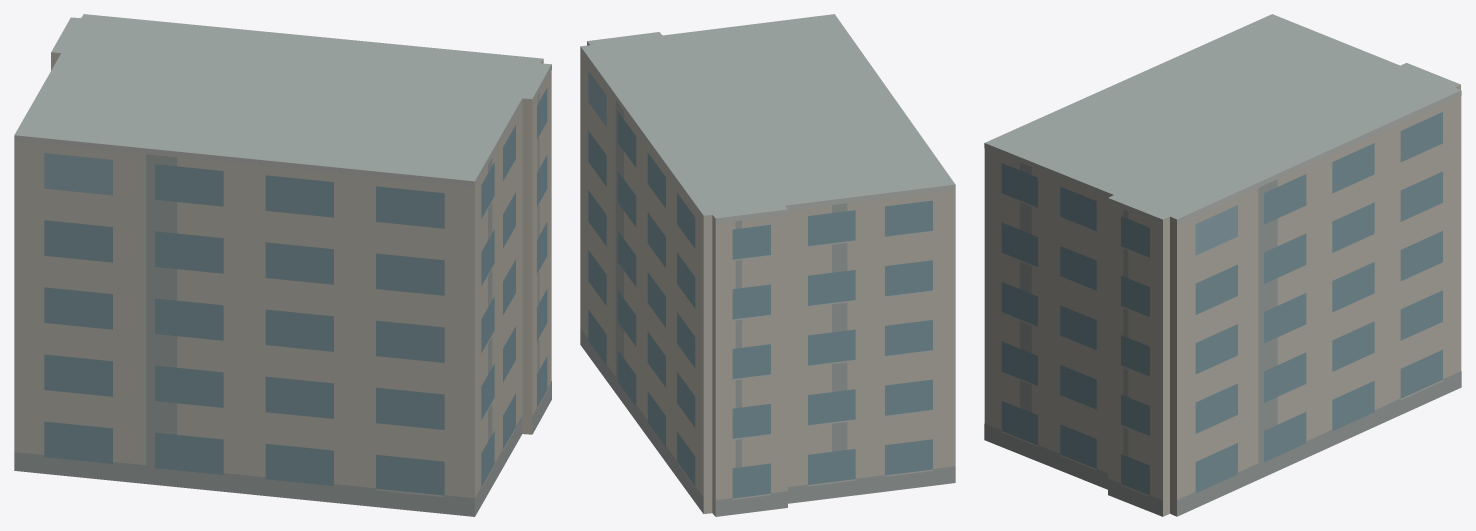
Rendered from survey-upis-33016428.glb.
3 views of the same model, side by side, from view 1: azimuth 30°, elevation 25°; view 2: azimuth 150°, elevation 25°; view 3: azimuth 270°, elevation 25° (orthographic). The views are drawn at different scales.
Parts seen in each view (by area): view 1: survey-upis-33016428.tmp; view 2: survey-upis-33016428.tmp; view 3: survey-upis-33016428.tmp.
Part boxes in pixels (x1,y1,x2,y2): survey-upis-33016428.tmp: [14, 14, 551, 516]; survey-upis-33016428.tmp: [580, 14, 955, 516]; survey-upis-33016428.tmp: [984, 14, 1461, 516].
Bounding box in the file's own units: 20.34 × 13.7 × 19.93.
